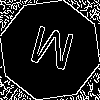M: (25, 25, 77, 80)
